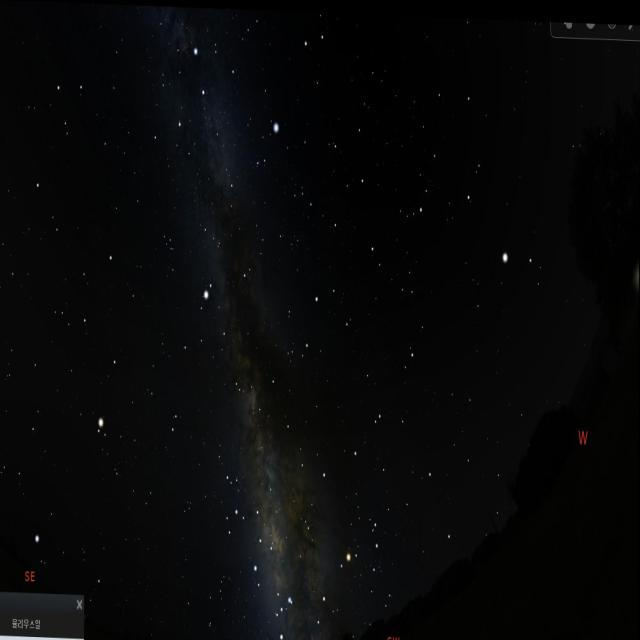aquila: (179, 241, 257, 407)
bootes: (428, 61, 538, 289)
cygnus: (171, 38, 248, 216)
lyra: (252, 111, 288, 171)
sagittarius: (213, 462, 272, 552)
scorpius: (272, 480, 392, 630)
